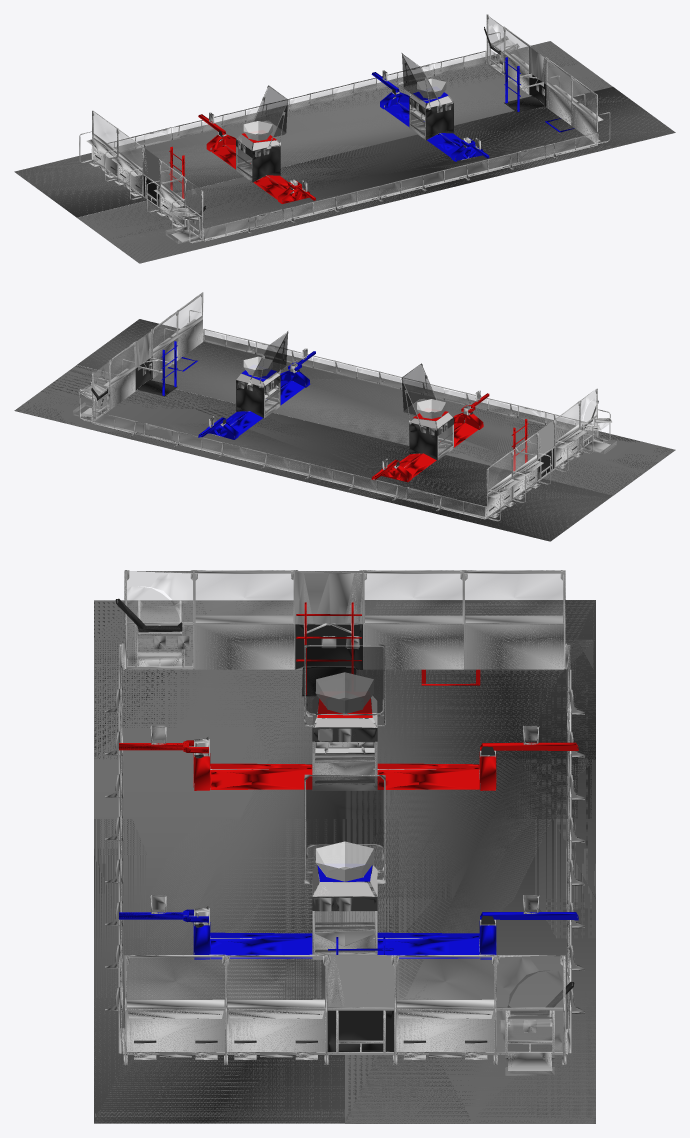
The model's file is field-lite.glb.
3 renders of one model, top to bottom at view 1: azimuth 30°, elevation 25°; view 2: azimuth 150°, elevation 25°; view 3: azimuth 270°, elevation 25°, orthographic. The views are drawn at different scales.
Parts seen in each view (by area): view 1: FieldMesh; view 2: FieldMesh; view 3: FieldMesh.
Boxes of the visible parts, x1,y1,x2,y2 form: FieldMesh: (14,14,675,263); FieldMesh: (14,292,675,541); FieldMesh: (94,570,595,1123).
Bounding box in the file's own units: 22.56 × 3.06 × 9.14.
